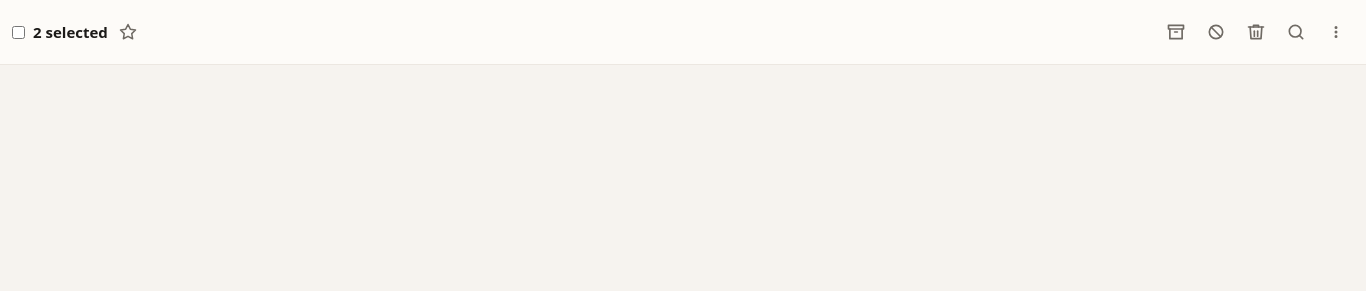
it: SelectionToolbar › honours disabledReason on a kebab item
This screenshot has width=1366, height=291.
Step 1. Click the button named "More actions" → [1336, 32], box [1318,14,1354,50]
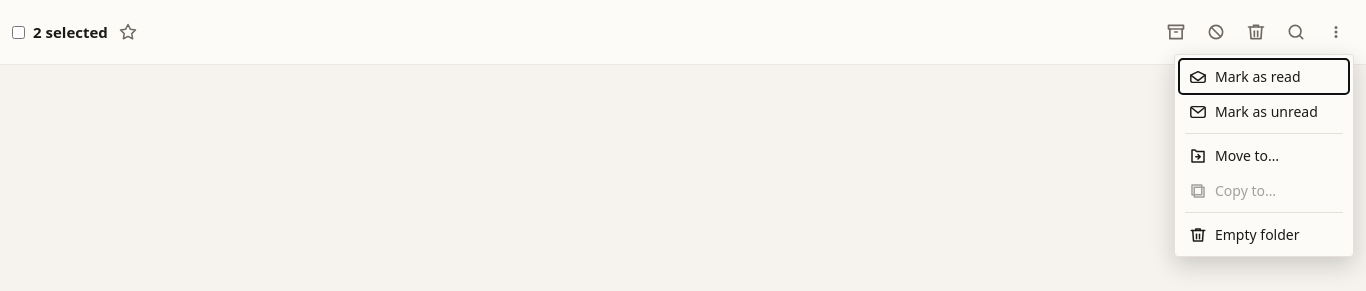
Expected: the menu item "Copy to…" is disabled, [1179,173,1349,208]
